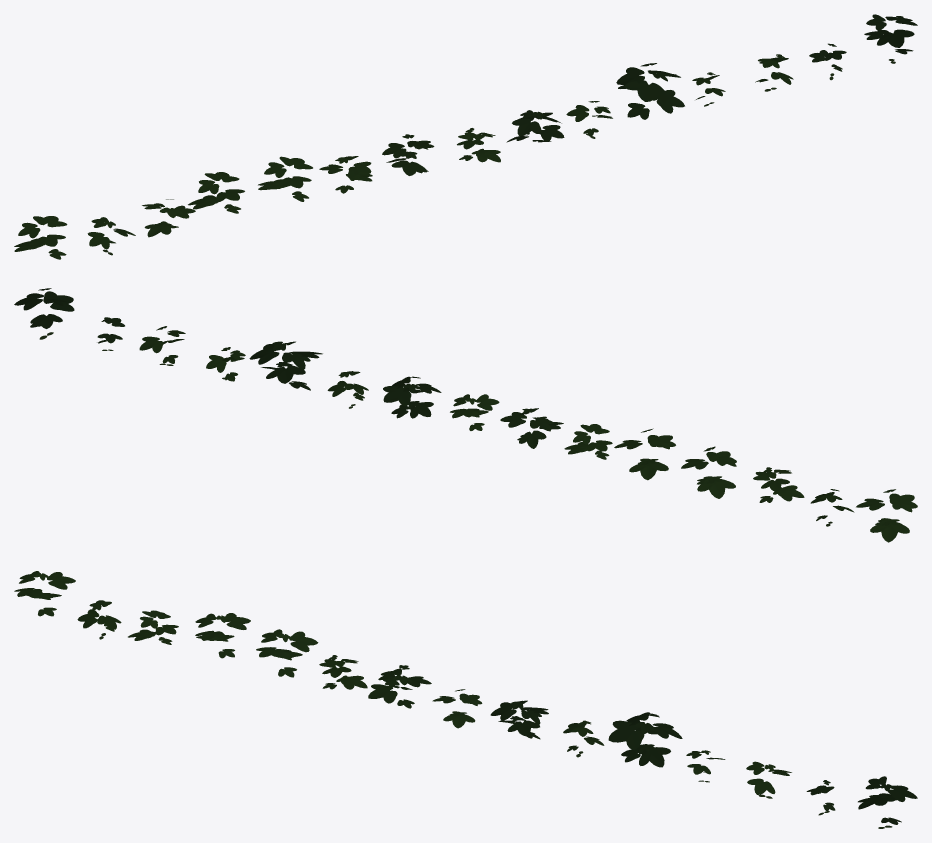
Rendered from ROW_19_SEG0_foliage.dae.
3 renders of one model, top to bottom at view 1: azimuth 30°, elevation 25°; view 2: azimuth 150°, elevation 25°; view 3: azimuth 330°, elevation 25°, orthographic.
Visible parts, largest first — view 1: ROW_19_SEG0_foliage; view 2: ROW_19_SEG0_foliage; view 3: ROW_19_SEG0_foliage.
Part boxes in pixels (x1,y1,x2,y2): ROW_19_SEG0_foliage: [14, 14, 917, 259]; ROW_19_SEG0_foliage: [14, 288, 917, 542]; ROW_19_SEG0_foliage: [14, 571, 917, 828].
Size of the model in its own units: 4.52 by 0.3204 by 0.2625.
